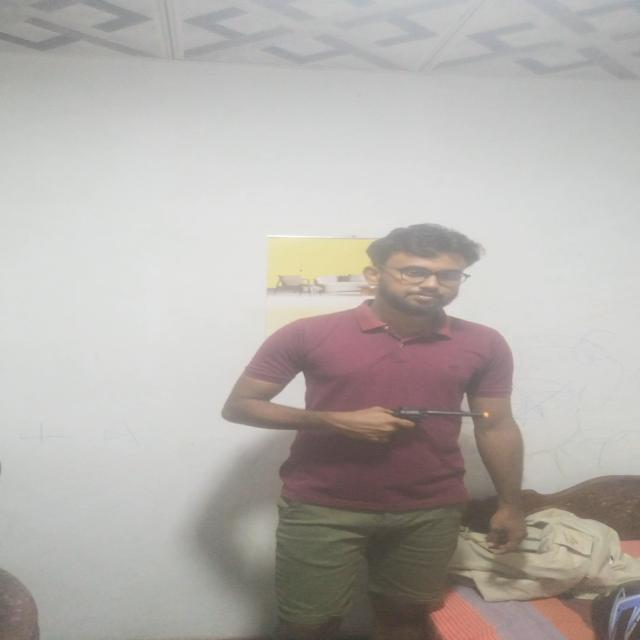Gun_Holder: (351, 404, 511, 438)
Person: (206, 221, 539, 640)
